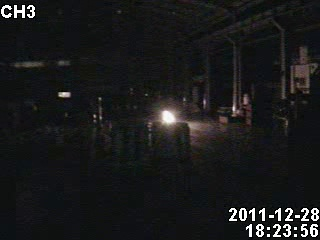fire: (157, 105, 178, 128)
